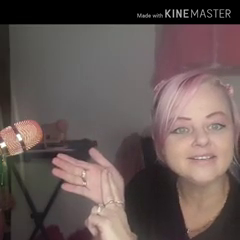N: (45, 140, 144, 238)
